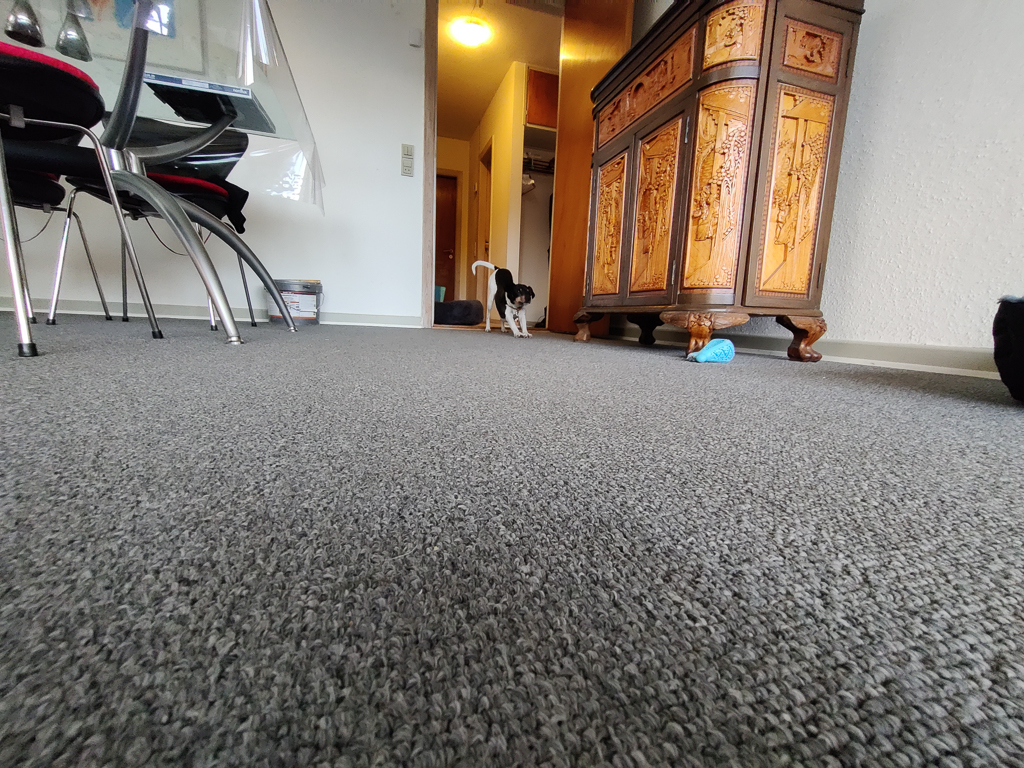Dog: (468, 253, 542, 345)
